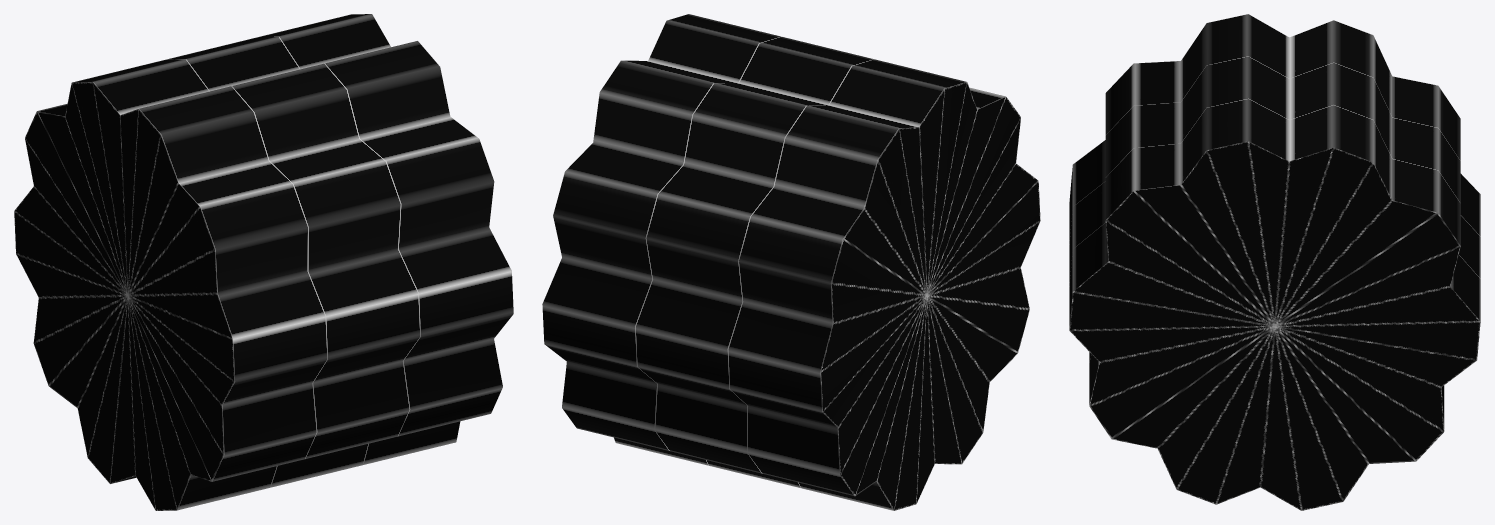
The model's file is mag.fbx.
3 renders of one model, left to right at view 1: azimuth 30°, elevation 25°; view 2: azimuth 150°, elevation 25°; view 3: azimuth 270°, elevation 25°, orthographic. The views are drawn at different scales.
Visible parts, largest first — view 1: ammoCylinder; view 2: ammoCylinder; view 3: ammoCylinder.
Part boxes in pixels (x1,y1,x2,y2): ammoCylinder: [14, 14, 513, 510]; ammoCylinder: [542, 14, 1040, 510]; ammoCylinder: [1069, 14, 1480, 510].
Bounding box in the file's own units: 0.6337 × 0.8562 × 0.8631.
